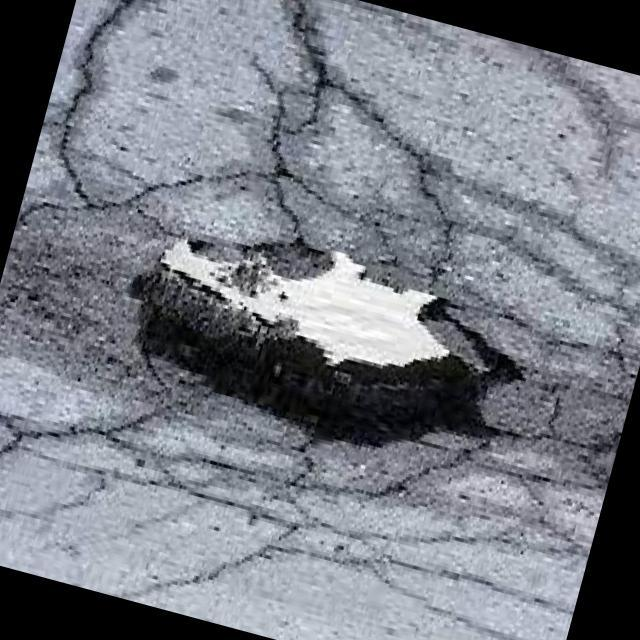pothole: (85, 195, 554, 514)
